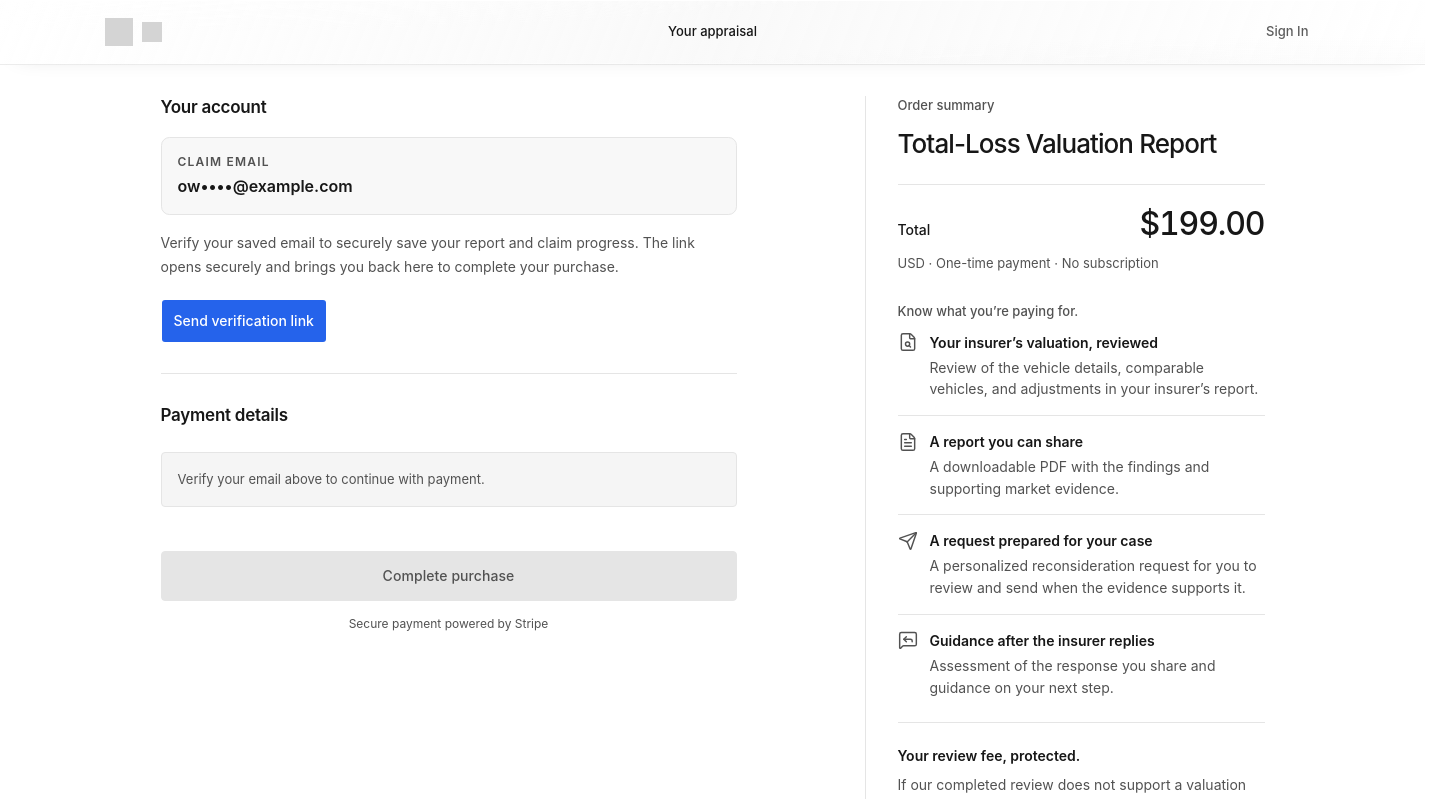
Test: total-loss claim page › shows an authorized anonymous owner the saved email and sends a case-bound magic link
Expected: the heading "Your account" is shown, x1=160 y1=97 x2=266 y2=117
Expected: the text "ow••••@example.com" is shown, x1=178 y1=176 x2=353 y2=196
Click the button "Send verification link". click: click(244, 321)
box: x1=160 y1=299 x2=327 y2=343
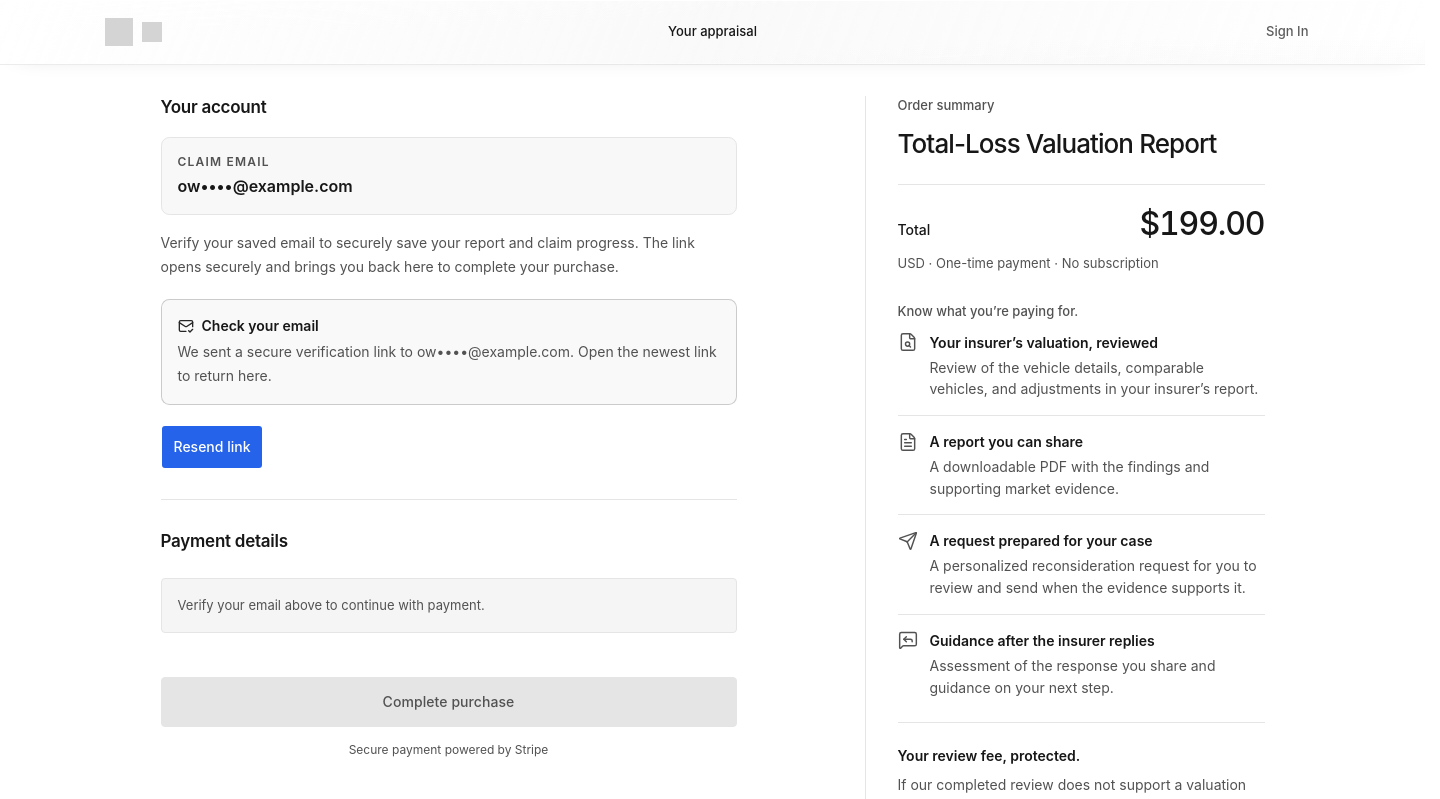
Expected: the text "Check your email" is shown, x1=178 y1=317 x2=319 y2=334
Expected: the button "Resend link" is shown, x1=160 y1=425 x2=264 y2=469
